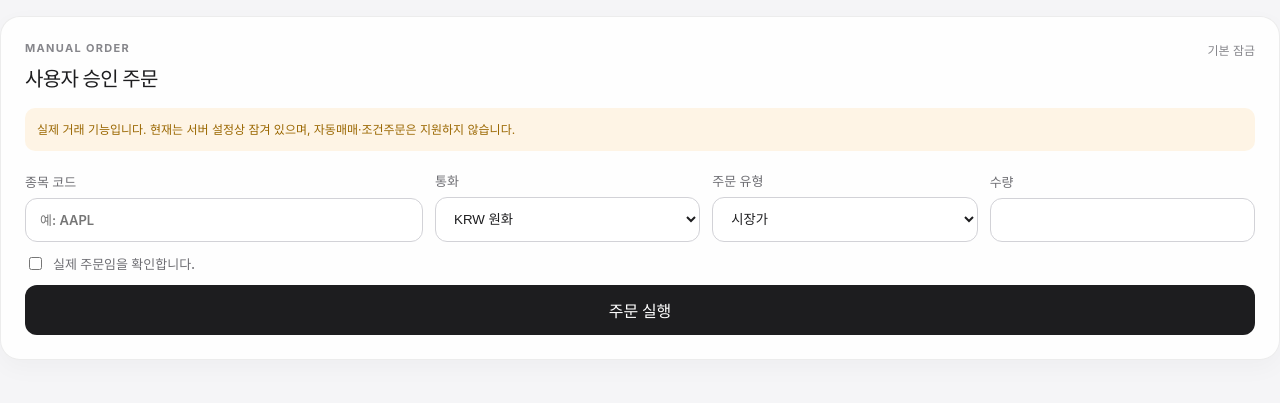
OrderExecutionPanel › sends a confirmed order and shows the returned order id
The width and height of the screenshot is (1280, 403).
Type "AAPL" into the field named "주문 종목 코드" at (224, 220), box [25, 198, 423, 242]
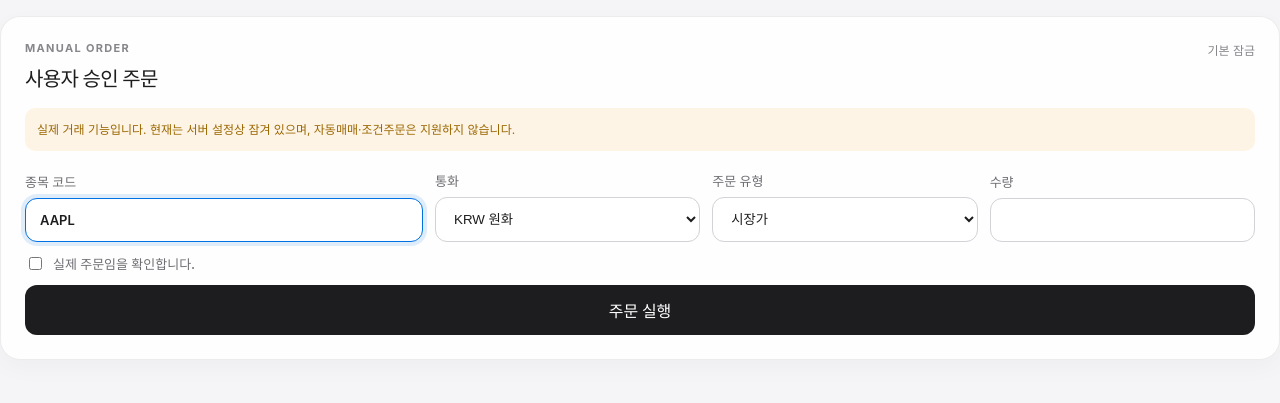
Type "1" into the number field named "주문 수량" at (1122, 220), box [990, 198, 1255, 242]
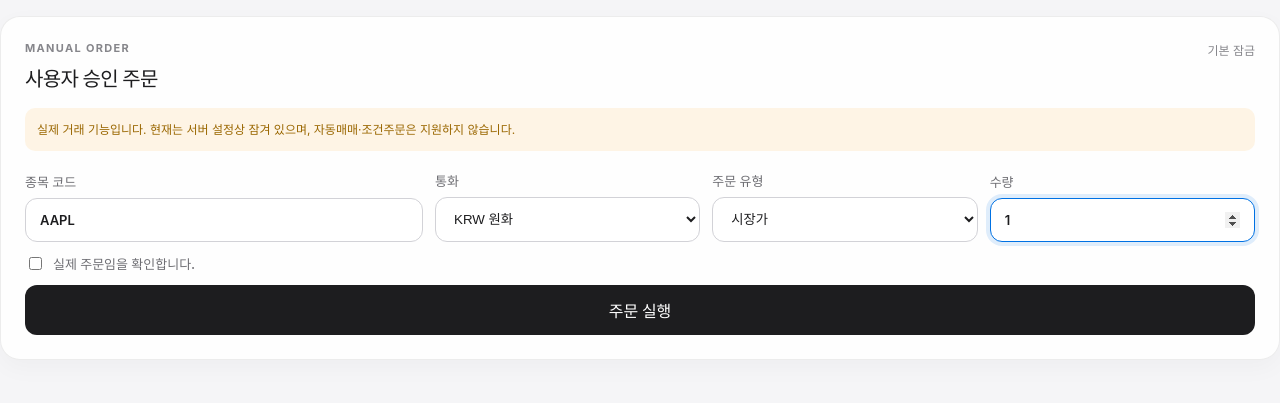
Click the checkbox named "실제 주문 확인" at (36, 264), box [29, 257, 42, 270]
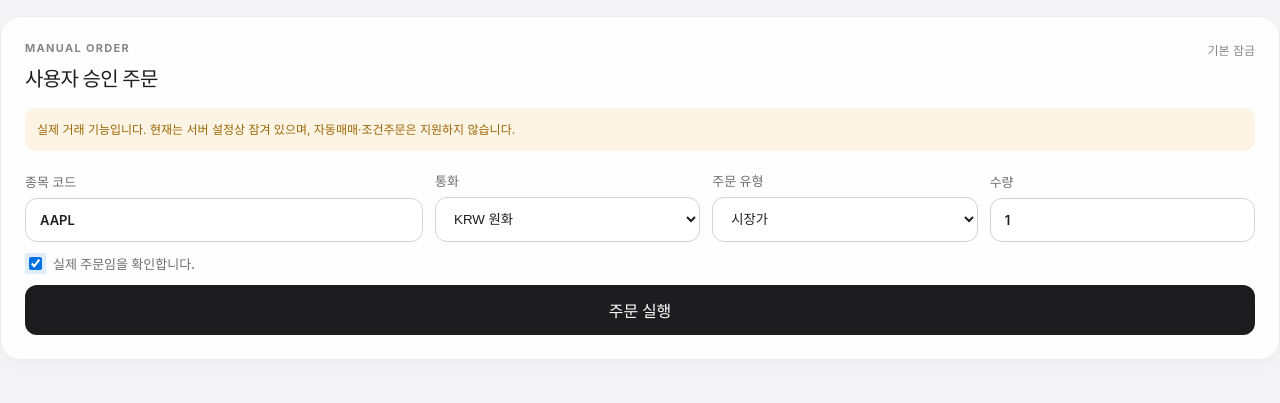
Click the button "주문 실행" at (640, 310), box [25, 285, 1255, 335]
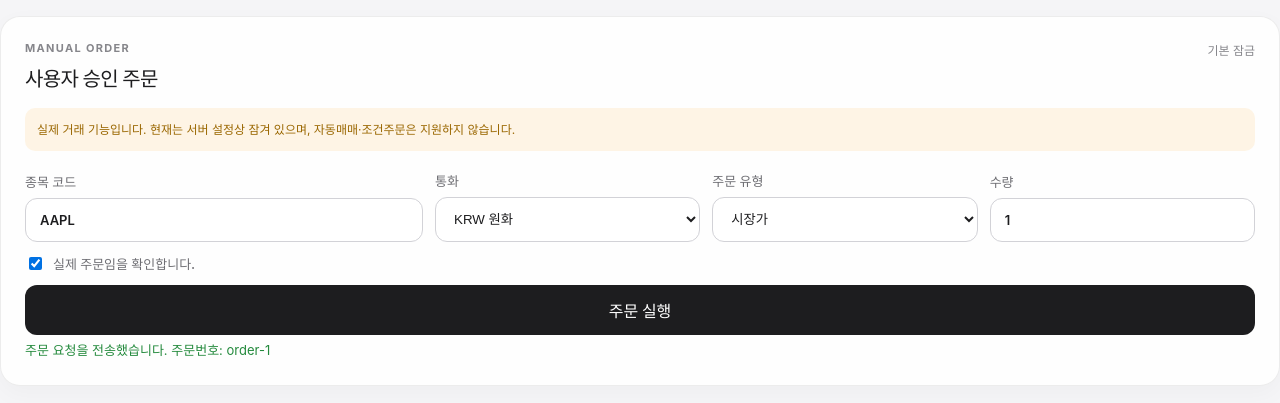
Check: the text "주문 요청을 전송했습니다. 주문번호: order-1" is shown, box [25, 342, 270, 358]
